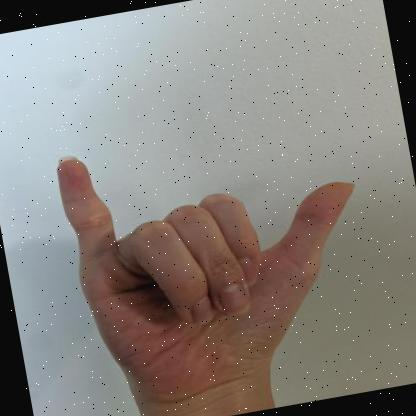Y: (56, 155, 354, 401)
